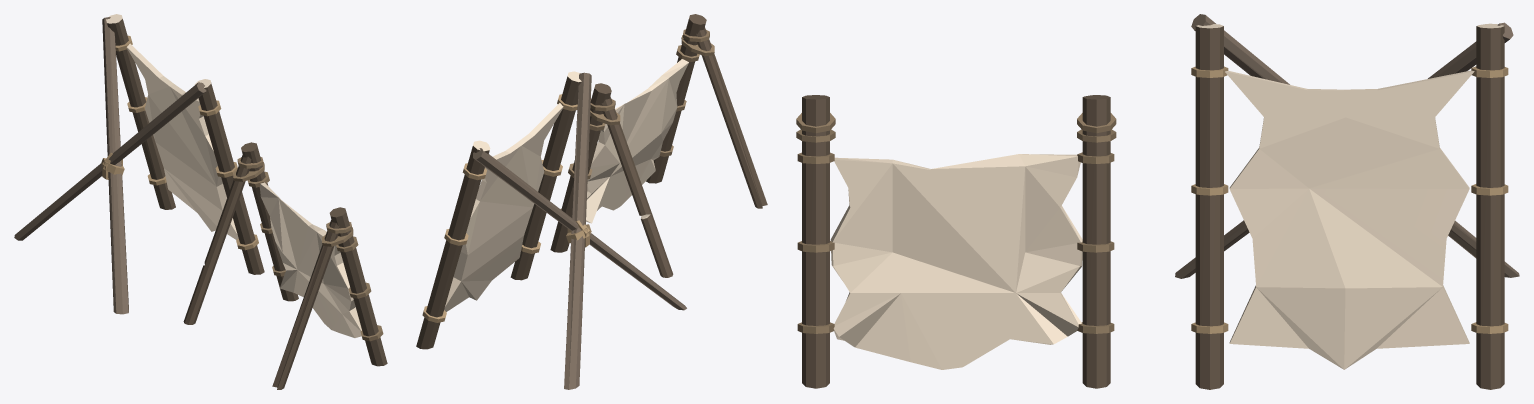
File: huts.fbx
3 renders of one model, left to right at view 1: azimuth 30°, elevation 25°; view 2: azimuth 150°, elevation 25°; view 3: azimuth 270°, elevation 25°, orthographic. The views are drawn at different scales.
Visible parts, largest first — view 1: pelages; view 2: pelages; view 3: pelages.
Part boxes in pixels (x1,y1,x2,y2): pelages: (14, 14, 387, 389); pelages: (416, 14, 767, 389); pelages: (796, 14, 1519, 389).
Bounding box in the file's own units: 250 × 313 × 633.
